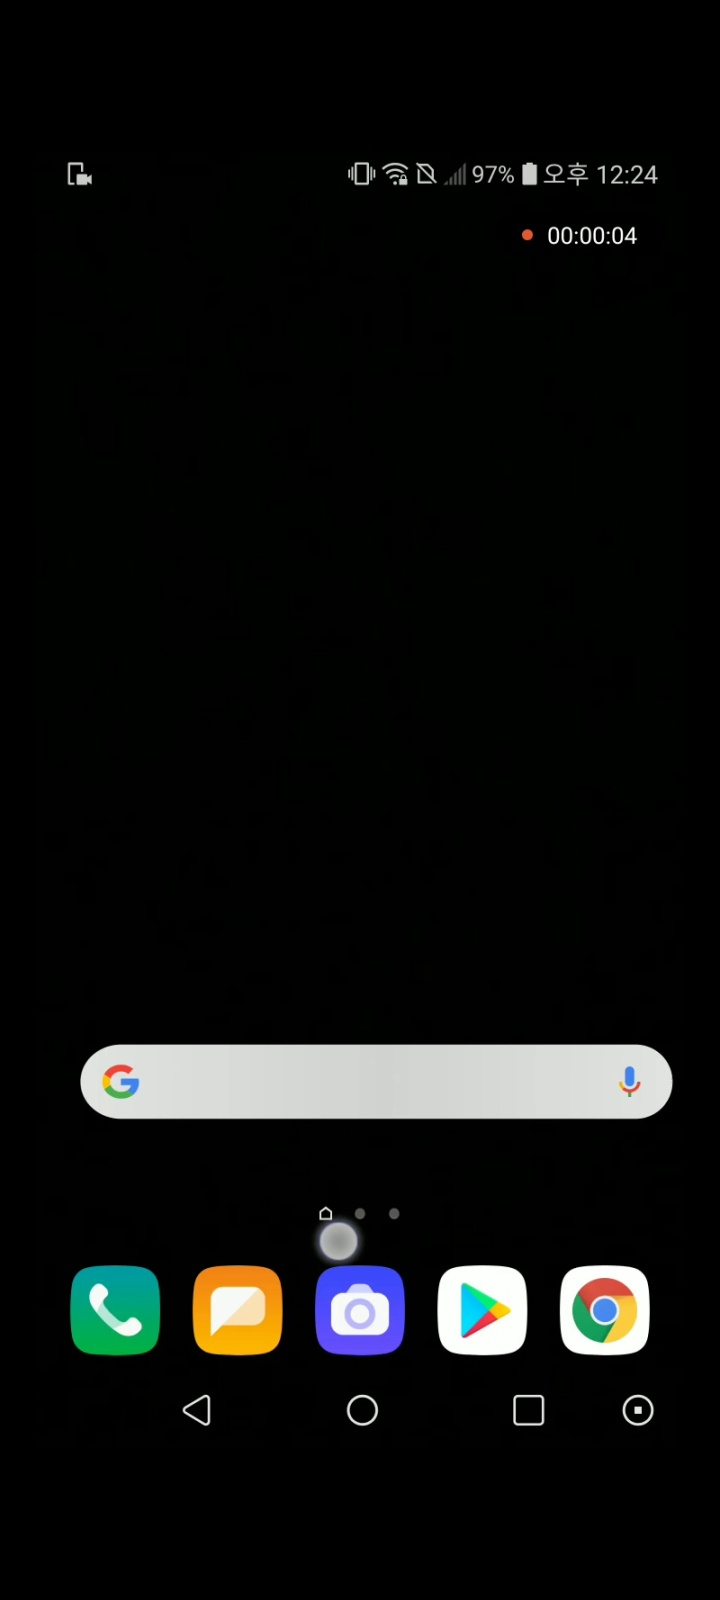Cursor: (318, 1220, 363, 1265)
